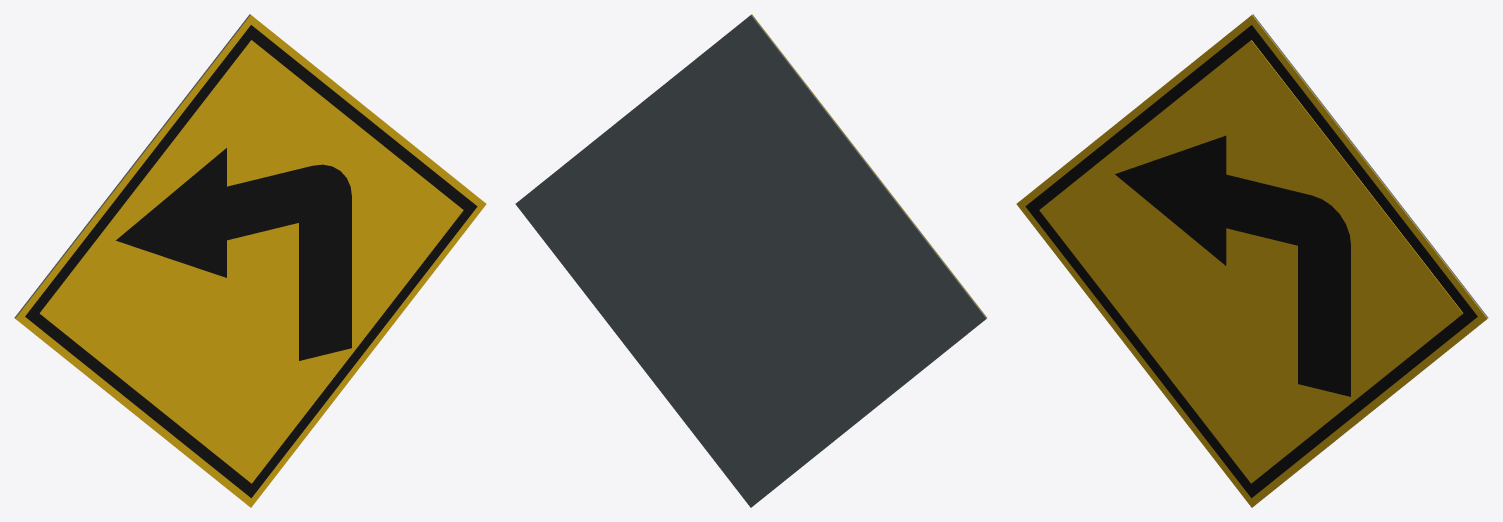
Rendered from PlacaCurvaEsquerda.fbx.
The picture shows the model from 3 angles, left to right: view 1: azimuth 30°, elevation 25°; view 2: azimuth 150°, elevation 25°; view 3: azimuth 330°, elevation 25°; orthographic projection.
Parts seen in each view (by area): view 1: PlacaCurvaEsquerda; view 2: PlacaCurvaEsquerda; view 3: PlacaCurvaEsquerda.
Boxes of the visible parts, x1=… form: PlacaCurvaEsquerda: x1=14, y1=14, x2=486, y2=507; PlacaCurvaEsquerda: x1=515, y1=14, x2=987, y2=507; PlacaCurvaEsquerda: x1=1016, y1=14, x2=1488, y2=507.
Bounding box in the file's own units: 0.8485 × 0.8485 × 0.007.
